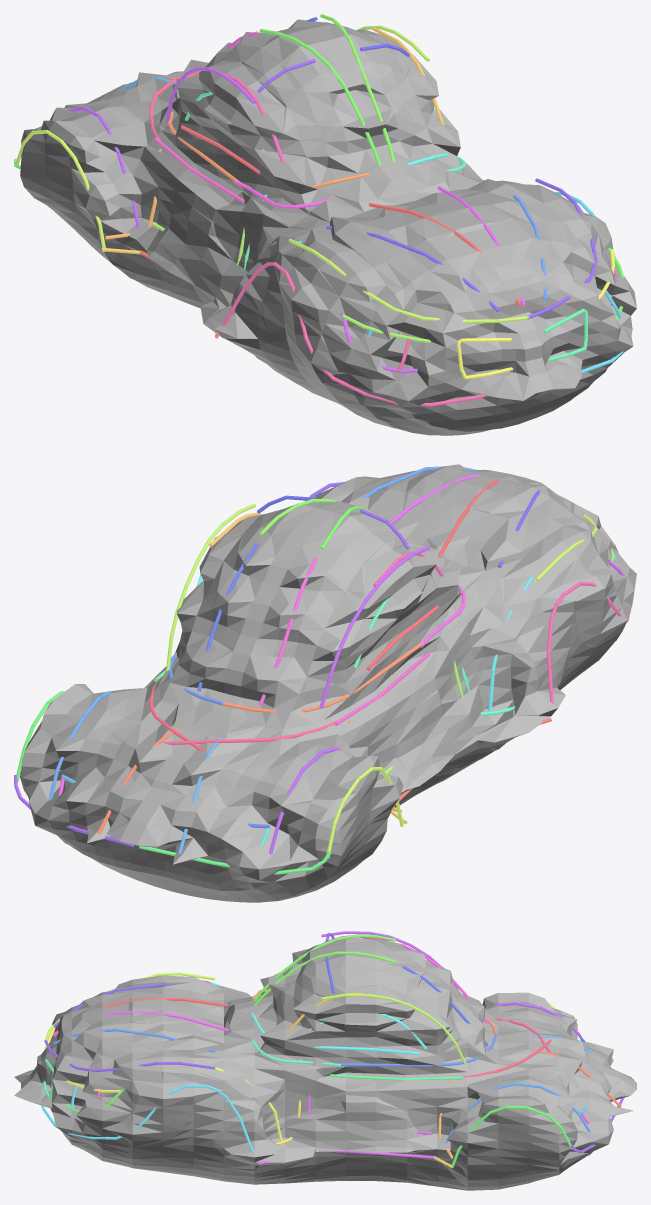
File: author1_car.gltf
3 views of the same model, one above another, from view 1: azimuth 30°, elevation 25°; view 2: azimuth 150°, elevation 25°; view 3: azimuth 270°, elevation 25° (orthographic). The views are drawn at different scales.
Size of the model in its own units: 0.4318 by 0.3454 by 0.9152.
